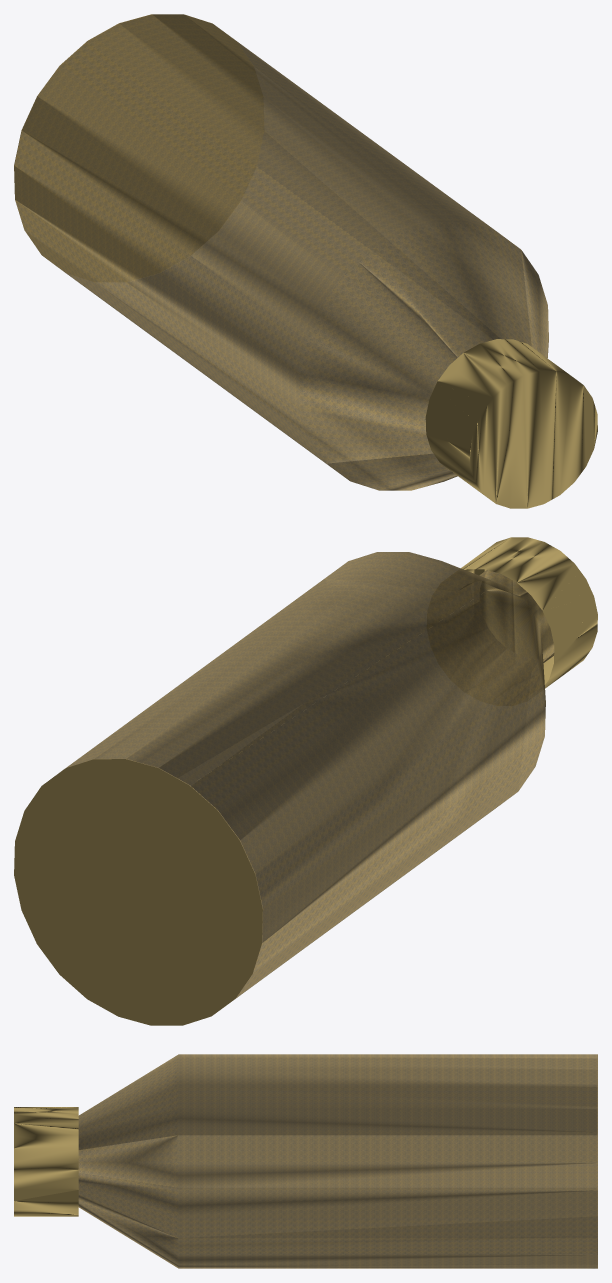
File: model_align.obj
3 renders of one model, top to bottom at view 1: azimuth 30°, elevation 25°; view 2: azimuth 150°, elevation 25°; view 3: azimuth 270°, elevation 25°, orthographic. The views are drawn at different scales.
Bounding box in the file's own units: 0.0991 × 0.0991 × 0.2716.
